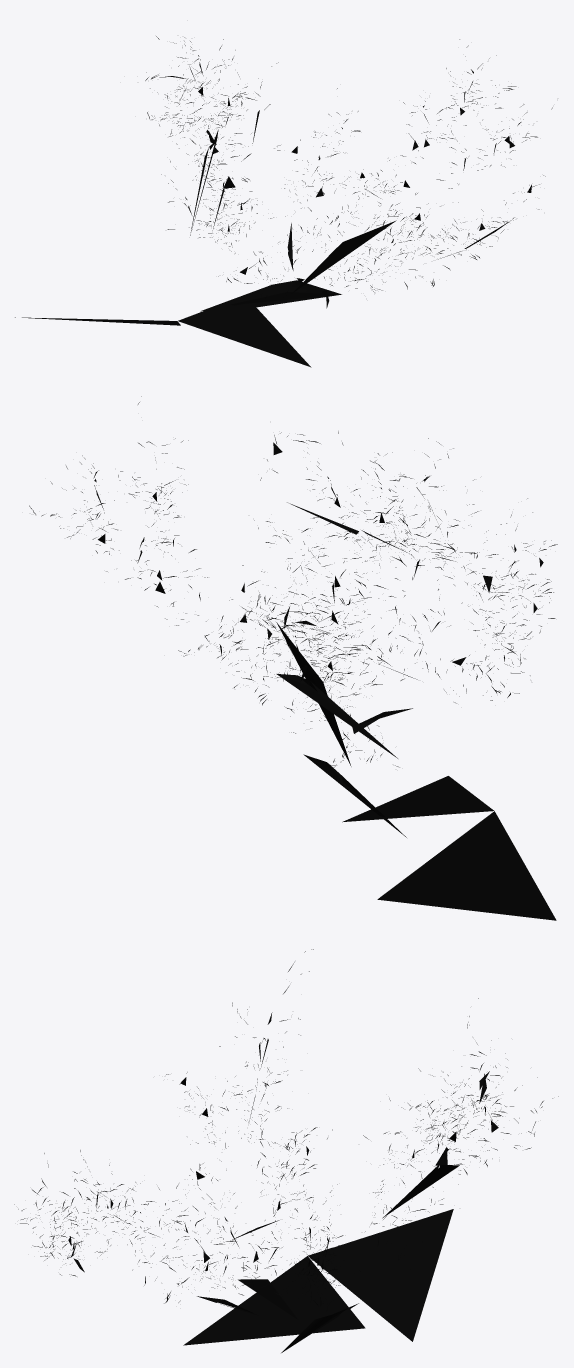
Rendered from Broad_Scrub_A.glb.
3 renders of one model, top to bottom at view 1: azimuth 30°, elevation 25°; view 2: azimuth 150°, elevation 25°; view 3: azimuth 270°, elevation 25°, orthographic. The views are drawn at different scales.
Parts seen in each view (by area): view 1: tree; view 2: tree; view 3: tree.
Part boxes in pixels (x1,y1,x2,y2): tree: (15, 36, 552, 367); tree: (29, 396, 557, 920); tree: (14, 949, 558, 1352).
Bounding box in the file's own units: 3.42 × 2.26 × 2.84.
Materials: 1 (1 with a texture image).
